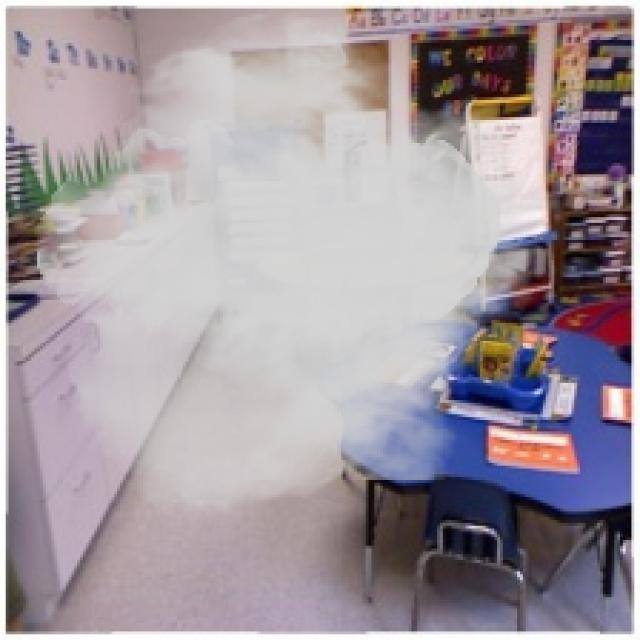Smoke: (34, 6, 554, 526)
